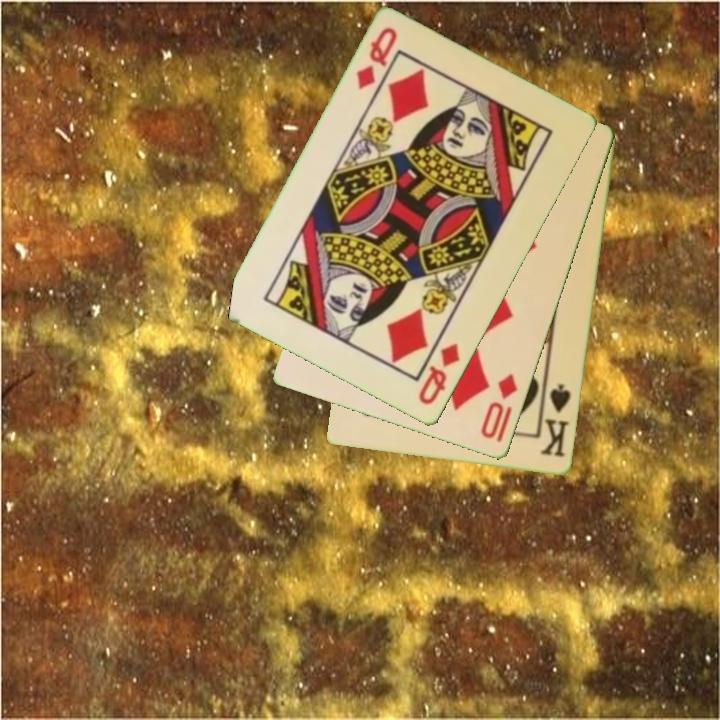10d: (477, 370, 521, 443)
Ks: (537, 379, 574, 461)
Qd: (352, 24, 401, 94), (415, 340, 463, 409)
